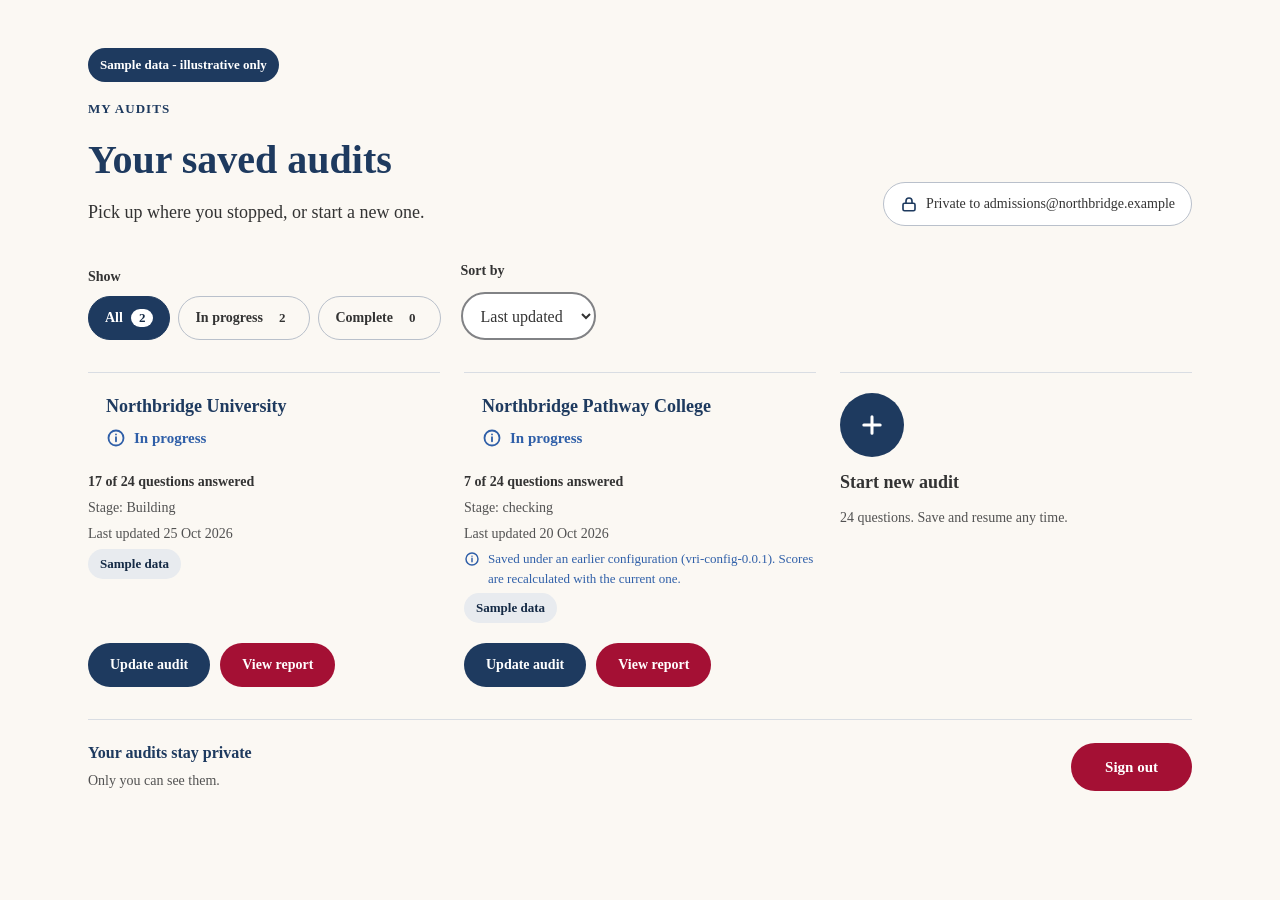
Test case: DashboardView › says when a filter matches nothing
The width and height of the screenshot is (1280, 900).
Step 1. Click the button "Complete 0" → (380, 318), box [318, 296, 440, 340]
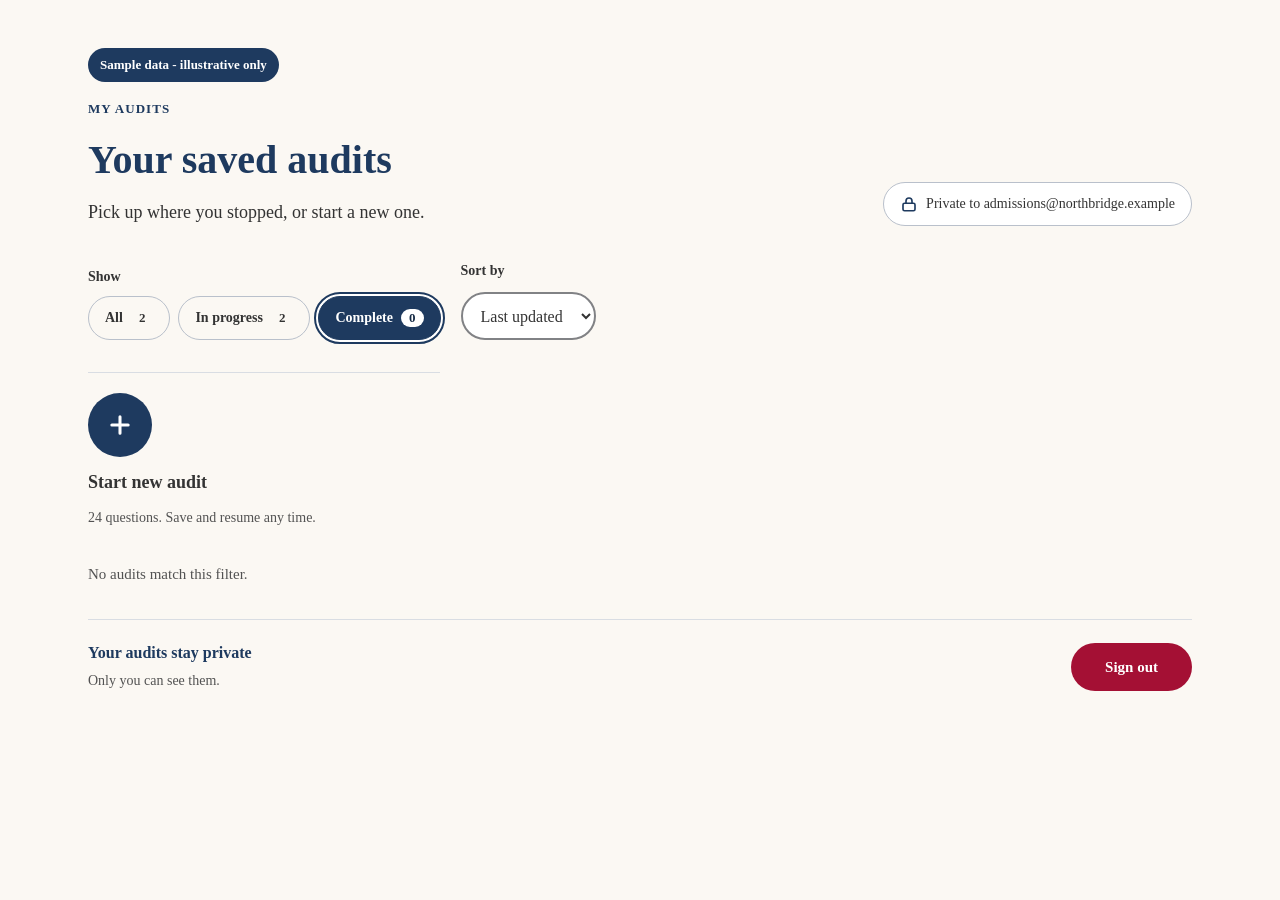
Check: the message reads "No audits match this filter.", box [88, 566, 248, 582]
